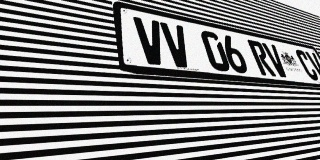0: (199, 30, 232, 72)
6: (218, 34, 250, 74)
C: (294, 49, 320, 81)
R: (247, 39, 276, 77)
V: (133, 16, 169, 66), (160, 22, 194, 69), (261, 42, 290, 78), (305, 51, 320, 82)
